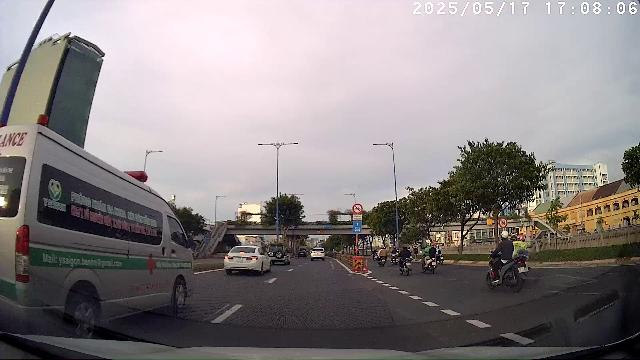103a-cam-oto: (499, 217, 508, 228)
